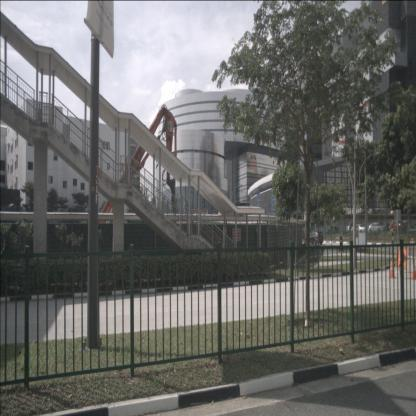cone: (388, 258, 396, 279), (410, 258, 416, 280)
